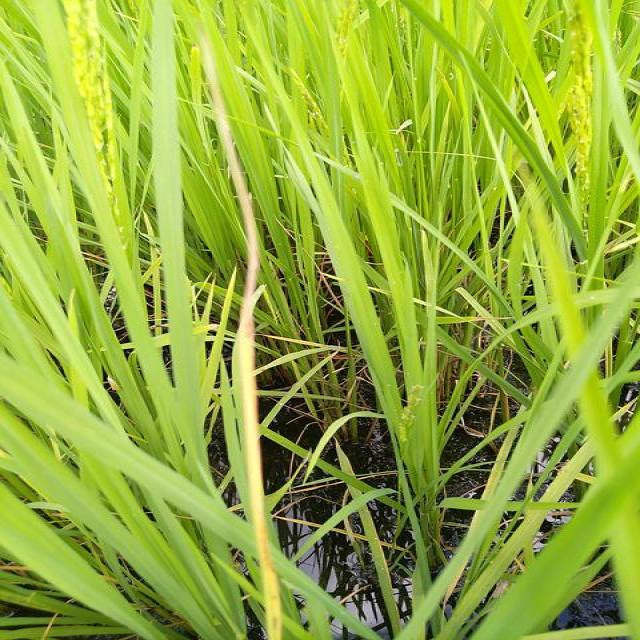Leaf Blight: (200, 28, 281, 639)
